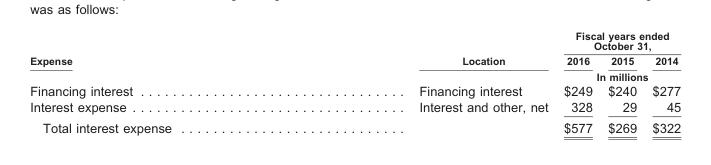table: (29, 28, 680, 134)
table column: (29, 28, 294, 134), (294, 28, 555, 134), (555, 28, 599, 134), (599, 28, 643, 134), (643, 28, 680, 134)
table column header: (29, 28, 680, 82)
table row: (29, 28, 680, 52), (29, 98, 680, 116), (29, 116, 680, 134), (29, 52, 680, 68), (29, 82, 680, 98), (29, 68, 680, 82)
table spanning cell: (29, 28, 294, 82), (294, 28, 555, 82), (555, 28, 680, 52), (555, 68, 680, 82)
